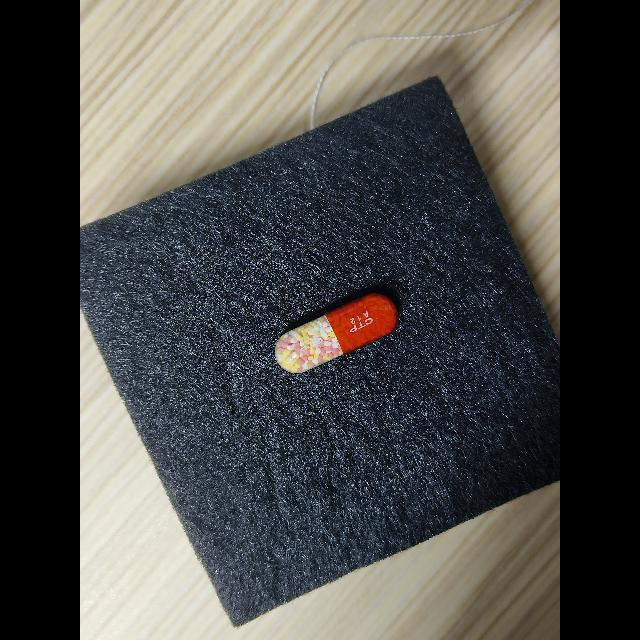Intact Capsule: (275, 293, 397, 373)
